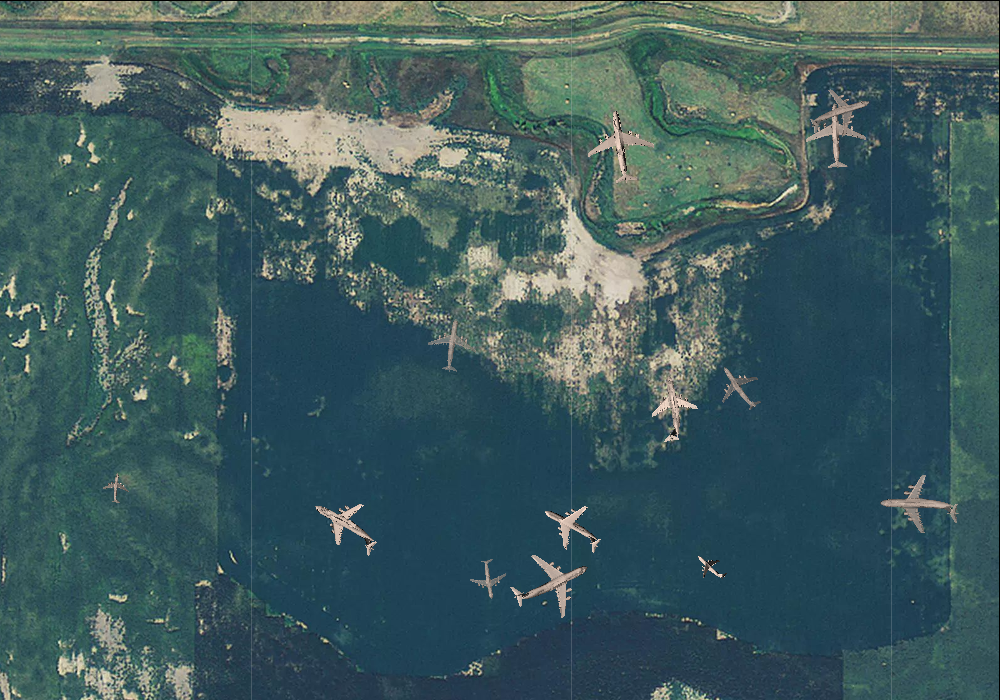plane: (498, 531, 603, 635), (298, 482, 391, 572), (530, 488, 613, 569), (581, 105, 660, 187), (879, 471, 960, 543), (801, 76, 879, 150), (637, 371, 705, 446), (706, 352, 774, 422), (804, 101, 868, 170), (423, 314, 481, 375), (466, 556, 511, 602), (689, 544, 734, 589), (100, 471, 132, 505)
